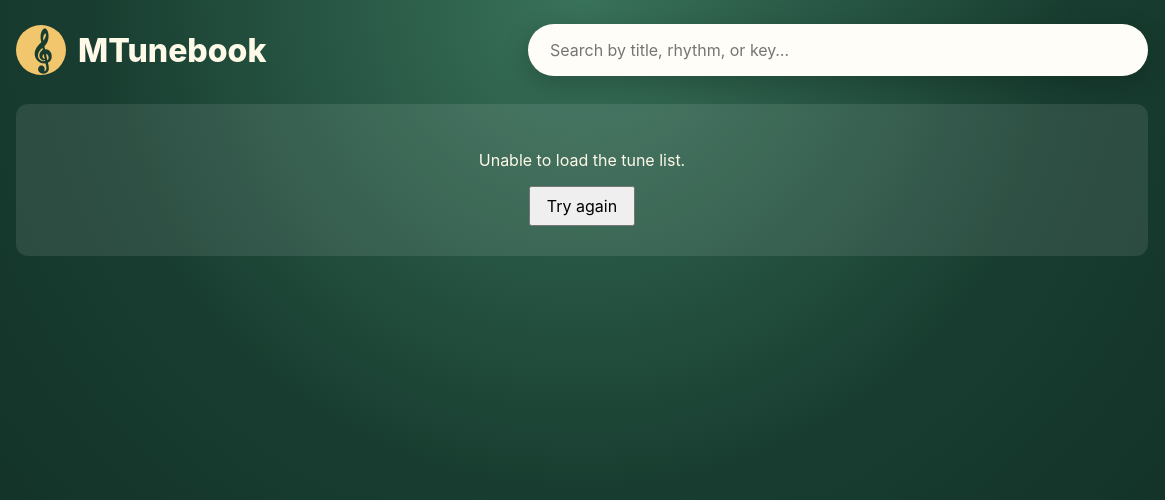
Test case: App › retries a failed index request
Check: the message shows "Unable to load the tune list", box left=479, top=150, right=685, bottom=170
Click the button "Try again".
click(582, 206)  # box left=529, top=186, right=635, bottom=226
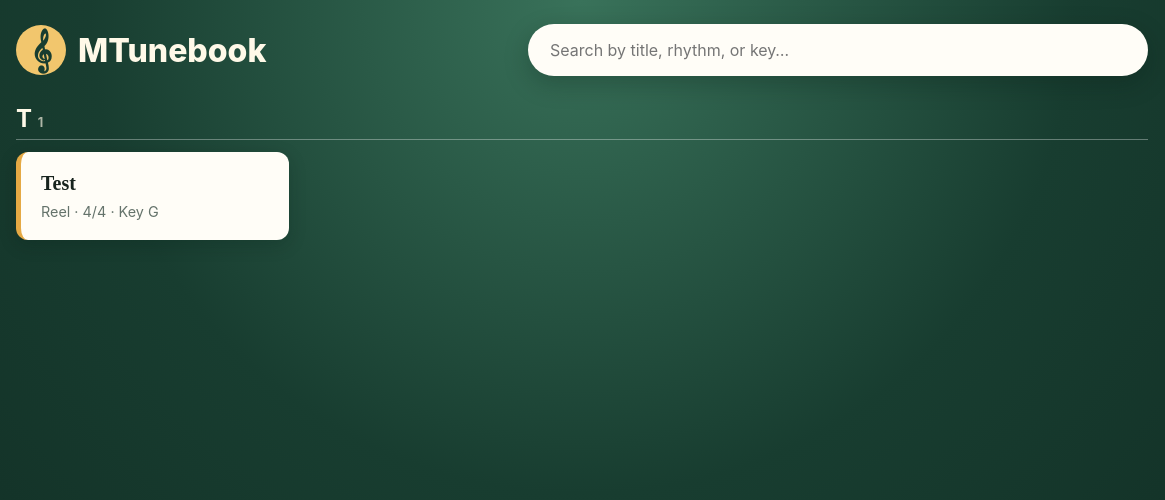
Check: the button "Test reel · 4/4 · key G" is shown, box left=16, top=152, right=288, bottom=240
